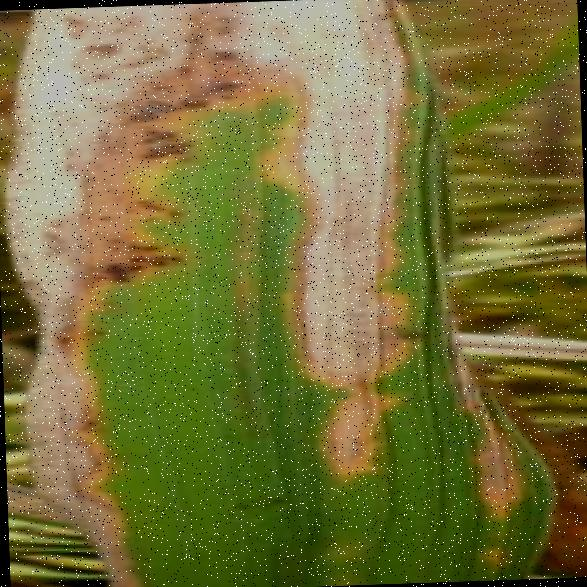Bacteria_Leaf_Blight: (0, 0, 438, 586)
